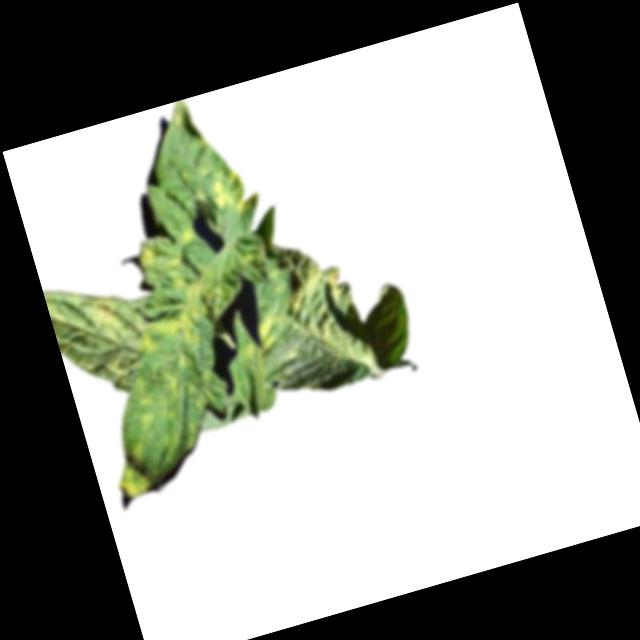Leaf_Mold: (120, 263, 225, 364), (277, 258, 359, 349), (105, 438, 159, 501), (202, 162, 254, 222), (84, 288, 134, 338), (249, 313, 290, 360)
